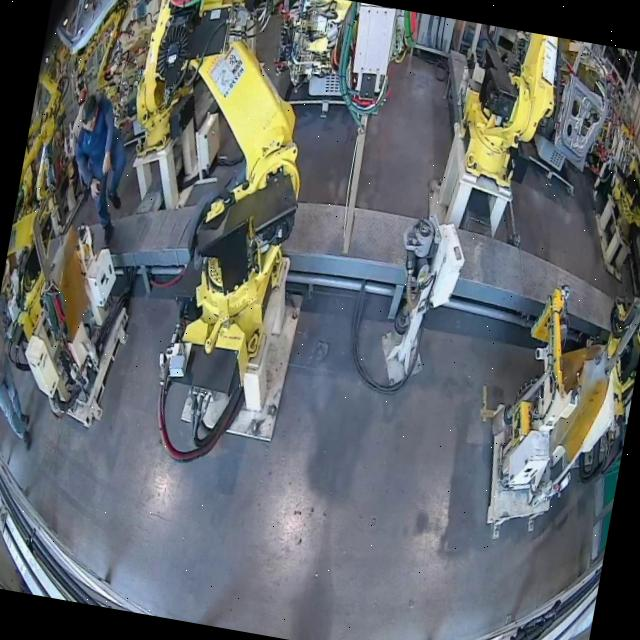Person: (58, 86, 140, 246), (0, 316, 55, 457)
